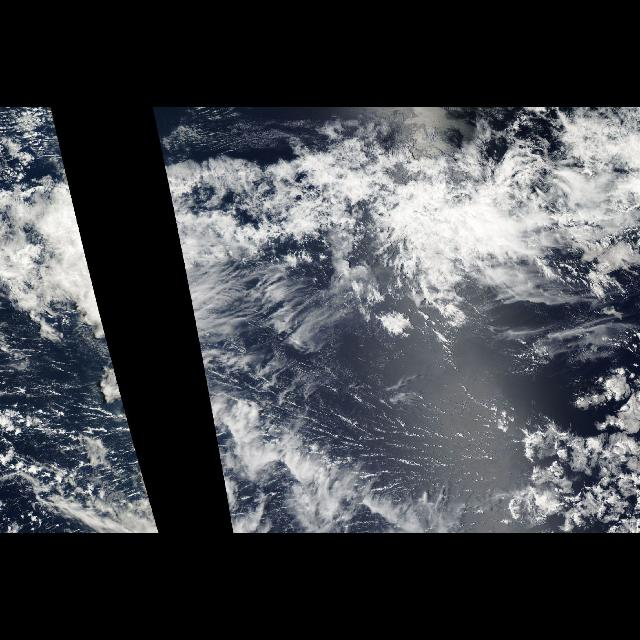Fish: (188, 168, 638, 298)
Sugar: (313, 374, 512, 484), (3, 356, 128, 476)
